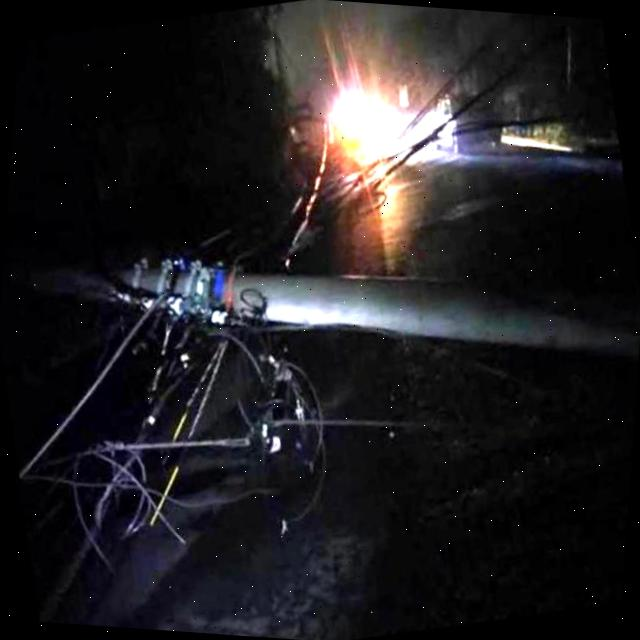Broken Pole: (6, 250, 639, 358)
